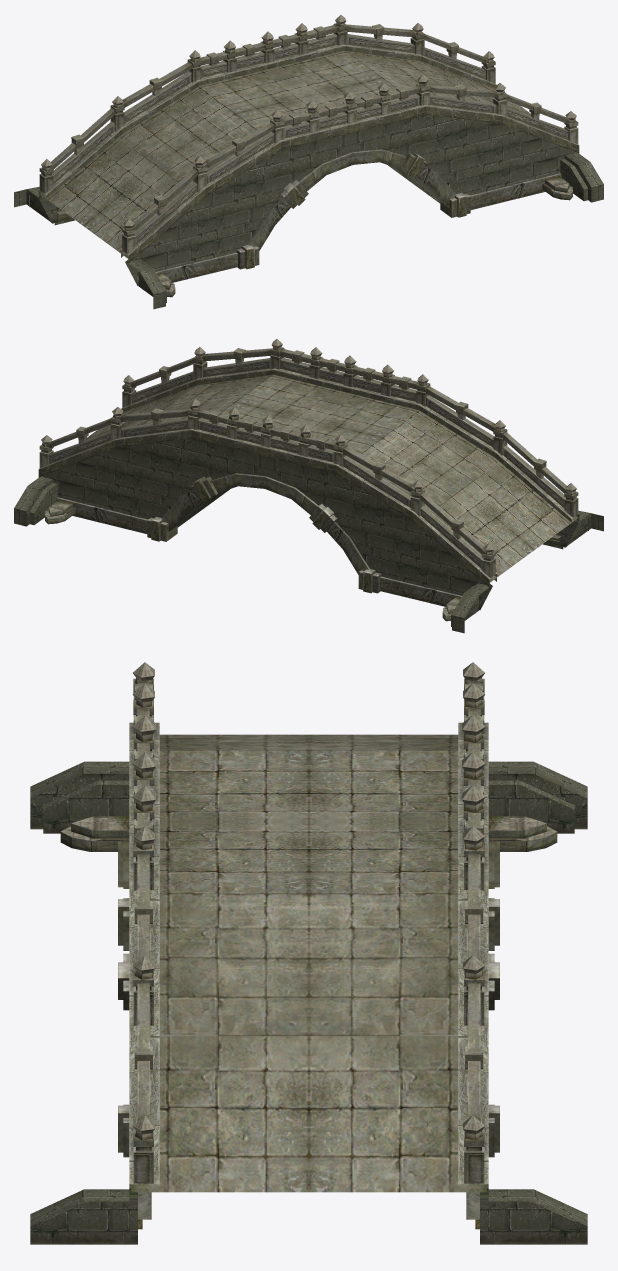
File: Dingqingchuan_wujian_01.FBX
3 renders of one model, top to bottom at view 1: azimuth 30°, elevation 25°; view 2: azimuth 150°, elevation 25°; view 3: azimuth 270°, elevation 25°, orthographic. The views are drawn at different scales.
Visible parts, largest first — view 1: Object010; view 2: Object010; view 3: Object010.
Boxes of the visible parts, bbox=[...] form: Object010: bbox=[14, 15, 603, 309]; Object010: bbox=[14, 339, 603, 633]; Object010: bbox=[30, 662, 587, 1244].
Bounding box in the file's own units: 707 × 219 × 377.
